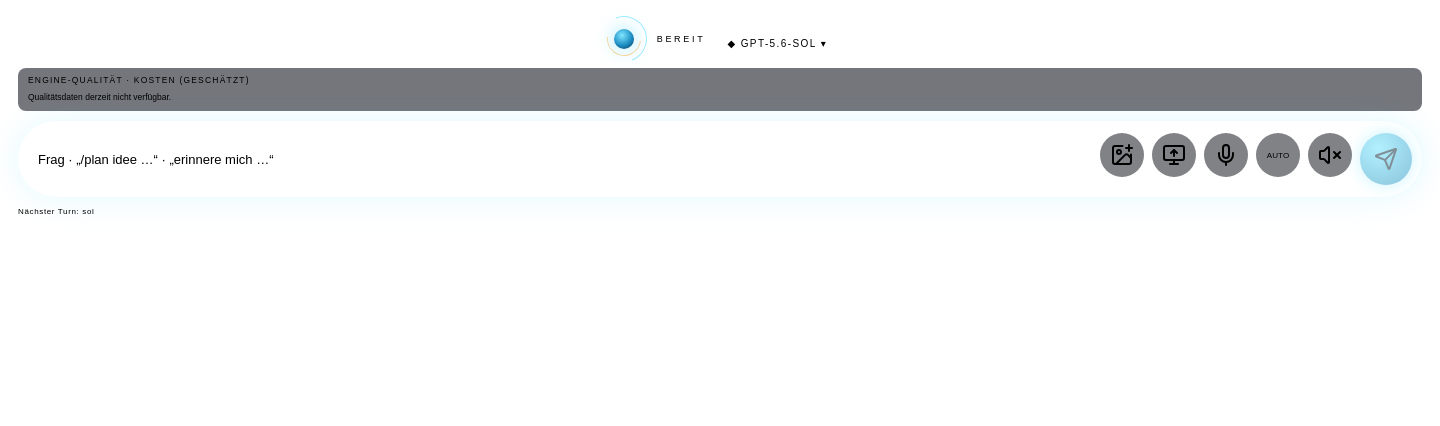
it: JarvisChat S3.6 — Vorlese-Toggle (/api/audio/speak) › S7: Mic-Start während des Vorlesens stoppt die Wiedergabe sofort
Click the button named "Antworten vorlesen" at (1330, 155), box x1=1308 y1=133 x2=1352 y2=177
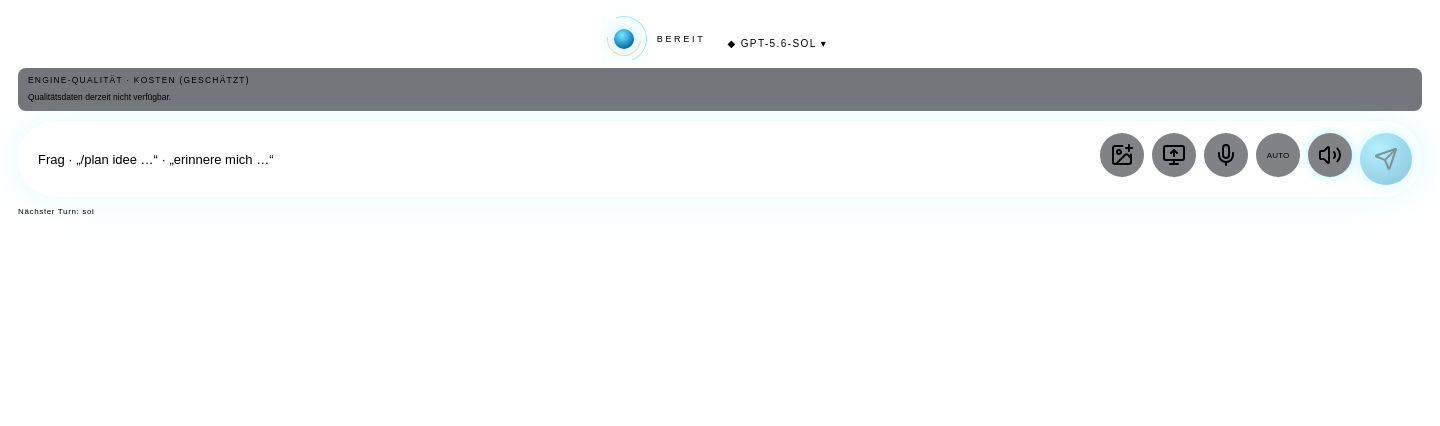
Type "lies vor" into the field named "Nachricht an Jarvis" at (564, 159), box x1=38 y1=137 x2=1090 y2=181
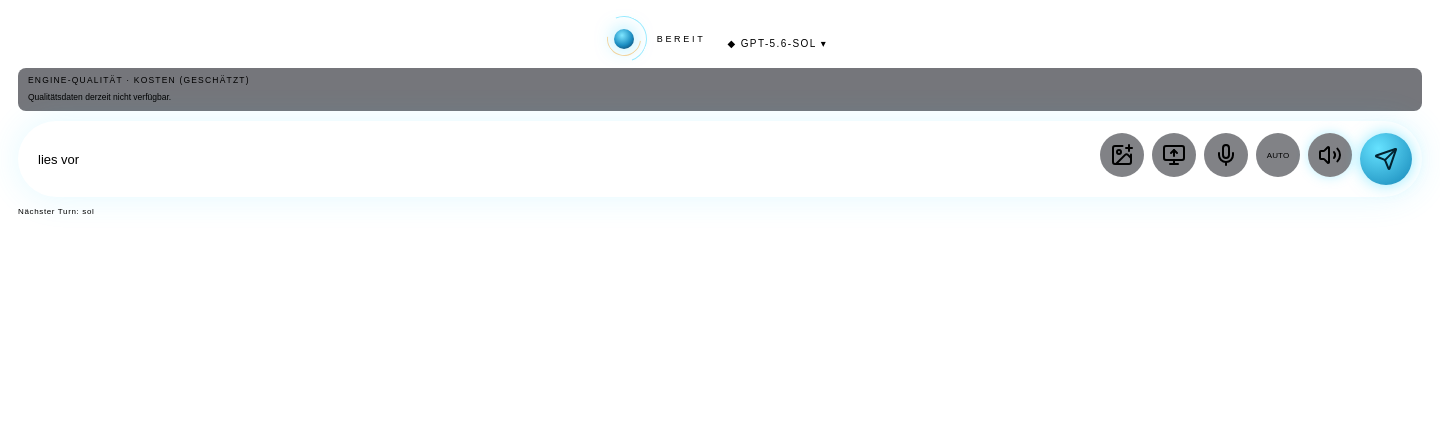
Click the button named "Nachricht senden" at (1386, 159), box x1=1360 y1=133 x2=1412 y2=185
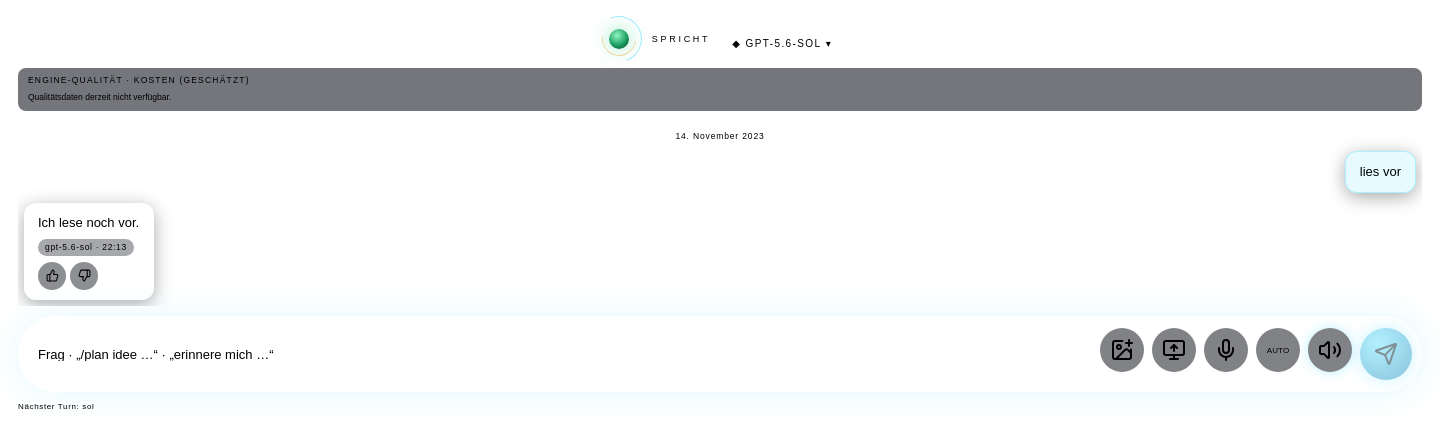
Click the button named "Diktieren" at (1226, 350), box x1=1204 y1=328 x2=1248 y2=372
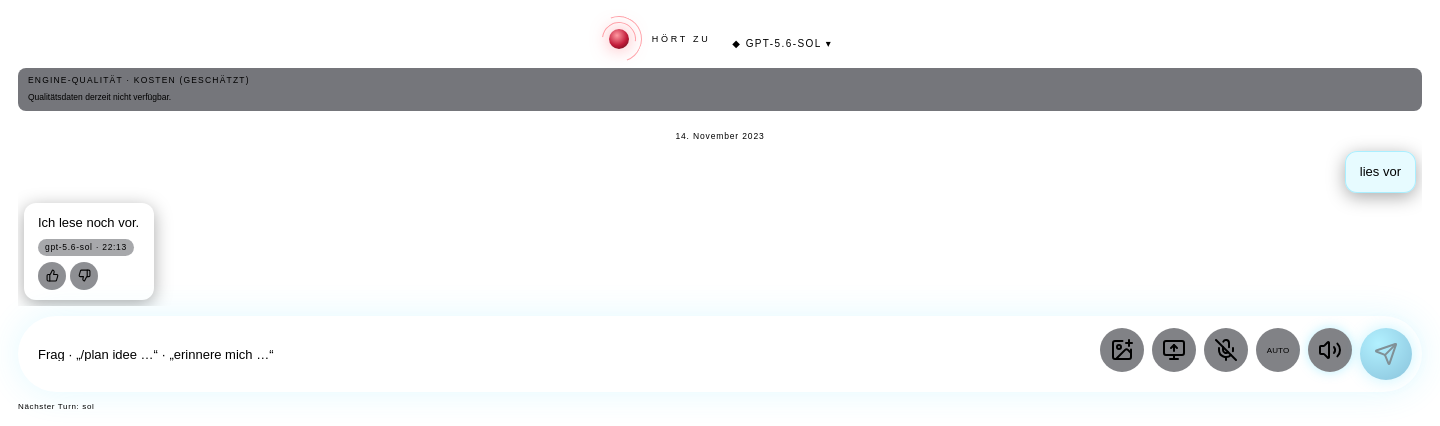
Now the button named "Aufnahme läuft — zum Stoppen tippen" is shown, box x1=1204 y1=328 x2=1248 y2=372
